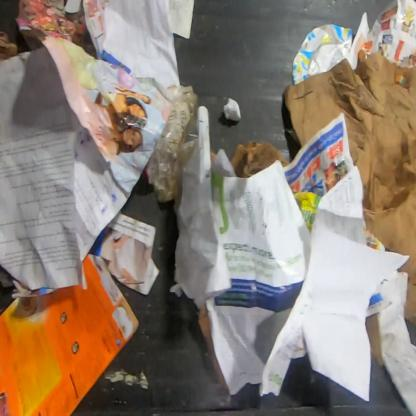cardboard: (283, 48, 415, 328), (0, 252, 142, 415), (197, 302, 228, 392), (230, 139, 290, 179), (366, 312, 384, 366)
